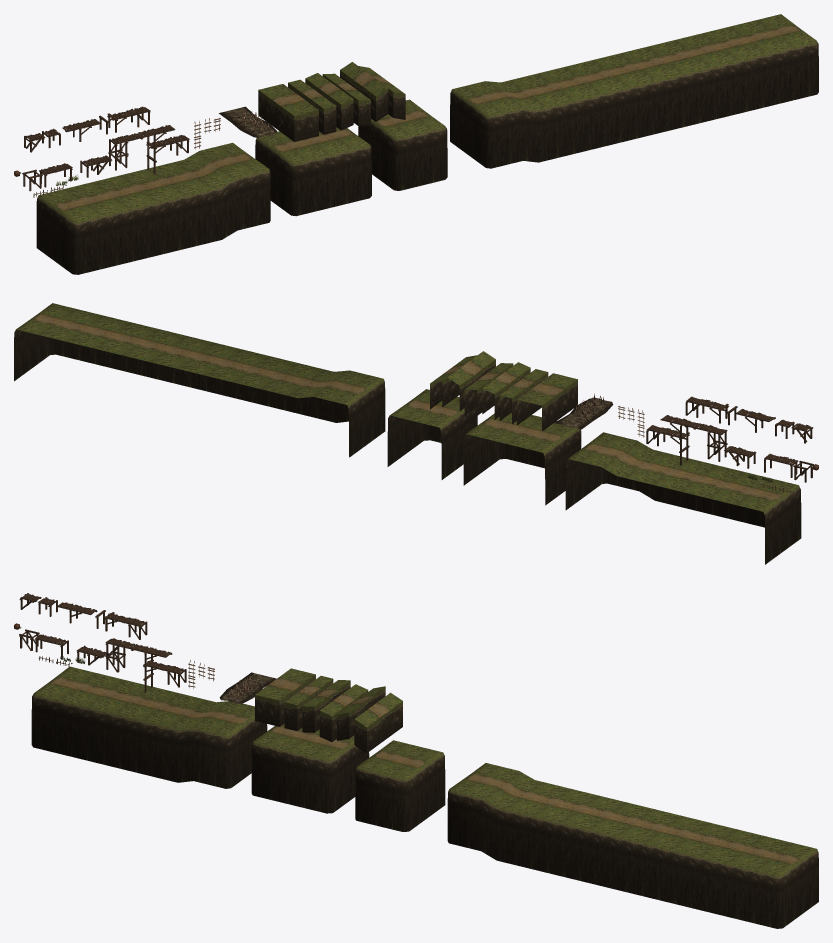
The picture shows the model from 3 angles, top to bottom: view 1: azimuth 30°, elevation 25°; view 2: azimuth 150°, elevation 25°; view 3: azimuth 330°, elevation 25°; orthographic projection.
Visible parts, largest first — view 1: Lv1_DiMian_04, Lv1_DiMian_01, Lv1_DiMian_02, Lv1_DiMian_03, Lv1_PlaceHolder_10m, Lv1_MuJia_04, Lv1_PlaceHolder_X2up, Lv1_PlaceHolder_X1up, Lv1_PlaceHolder_5m, Lv1_JianCi, Lv1_PlaceHolder_X1down, Lv1_PlaceHolder_X2down; view 2: Lv1_DiMian_04, Lv1_DiMian_01, Lv1_DiMian_02, Lv1_DiMian_03, Lv1_PlaceHolder_10m, Lv1_MuJia_04, Lv1_PlaceHolder_X2up, Lv1_PlaceHolder_X1up, Lv1_PlaceHolder_5m, Lv1_JianCi, Lv1_PlaceHolder_X1down, Lv1_PlaceHolder_X2down (+1 smaller); view 3: Lv1_DiMian_04, Lv1_DiMian_01, Lv1_DiMian_02, Lv1_DiMian_03, Lv1_PlaceHolder_X2down, Lv1_PlaceHolder_10m, Lv1_MuJia_04, Lv1_PlaceHolder_5m, Lv1_PlaceHolder_X1down, Lv1_PlaceHolder_X1up, Lv1_PlaceHolder_X2up, Lv1_JianCi.
Boxes of the visible parts, box(x1,y1,x2,y2) form: Lv1_DiMian_04: box(450, 14, 818, 168); Lv1_DiMian_01: box(36, 142, 270, 274); Lv1_DiMian_02: box(255, 127, 371, 216); Lv1_DiMian_03: box(358, 99, 447, 190); Lv1_PlaceHolder_10m: box(258, 84, 318, 141); Lv1_MuJia_04: box(108, 125, 189, 174); Lv1_PlaceHolder_X2up: box(340, 62, 388, 121); Lv1_PlaceHolder_X1up: box(305, 73, 353, 130); Lv1_PlaceHolder_5m: box(288, 79, 336, 134); Lv1_JianCi: box(219, 106, 277, 137); Lv1_PlaceHolder_X1down: box(322, 73, 370, 126); Lv1_PlaceHolder_X2down: box(358, 66, 405, 119); Lv1_DiMian_04: box(14, 303, 385, 457); Lv1_DiMian_01: box(565, 432, 801, 564); Lv1_DiMian_02: box(463, 412, 581, 505); Lv1_DiMian_03: box(387, 389, 477, 479); Lv1_PlaceHolder_10m: box(517, 373, 577, 431); Lv1_MuJia_04: box(646, 415, 727, 465); Lv1_PlaceHolder_X2up: box(447, 351, 495, 411); Lv1_PlaceHolder_X1up: box(482, 362, 530, 419); Lv1_PlaceHolder_5m: box(499, 369, 548, 424); Lv1_JianCi: box(554, 393, 613, 429); Lv1_PlaceHolder_X1down: box(464, 363, 513, 415); Lv1_PlaceHolder_X2down: box(430, 355, 476, 409); Lv1_DiMian_04: box(447, 763, 818, 928); Lv1_DiMian_01: box(31, 666, 267, 788); Lv1_DiMian_02: box(251, 723, 369, 813); Lv1_DiMian_03: box(355, 740, 445, 831); Lv1_PlaceHolder_X2down: box(354, 692, 402, 753); Lv1_PlaceHolder_10m: box(255, 668, 315, 726); Lv1_MuJia_04: box(105, 638, 186, 692); Lv1_PlaceHolder_5m: box(284, 675, 333, 730); Lv1_PlaceHolder_X1down: box(319, 684, 368, 741); Lv1_PlaceHolder_X1up: box(302, 680, 350, 732); Lv1_PlaceHolder_X2up: box(337, 686, 385, 740); Lv1_JianCi: box(219, 672, 276, 704).
Bounding box in the file's own units: 317 × 50.15 × 26.82.
12 materials, 12 textured.
